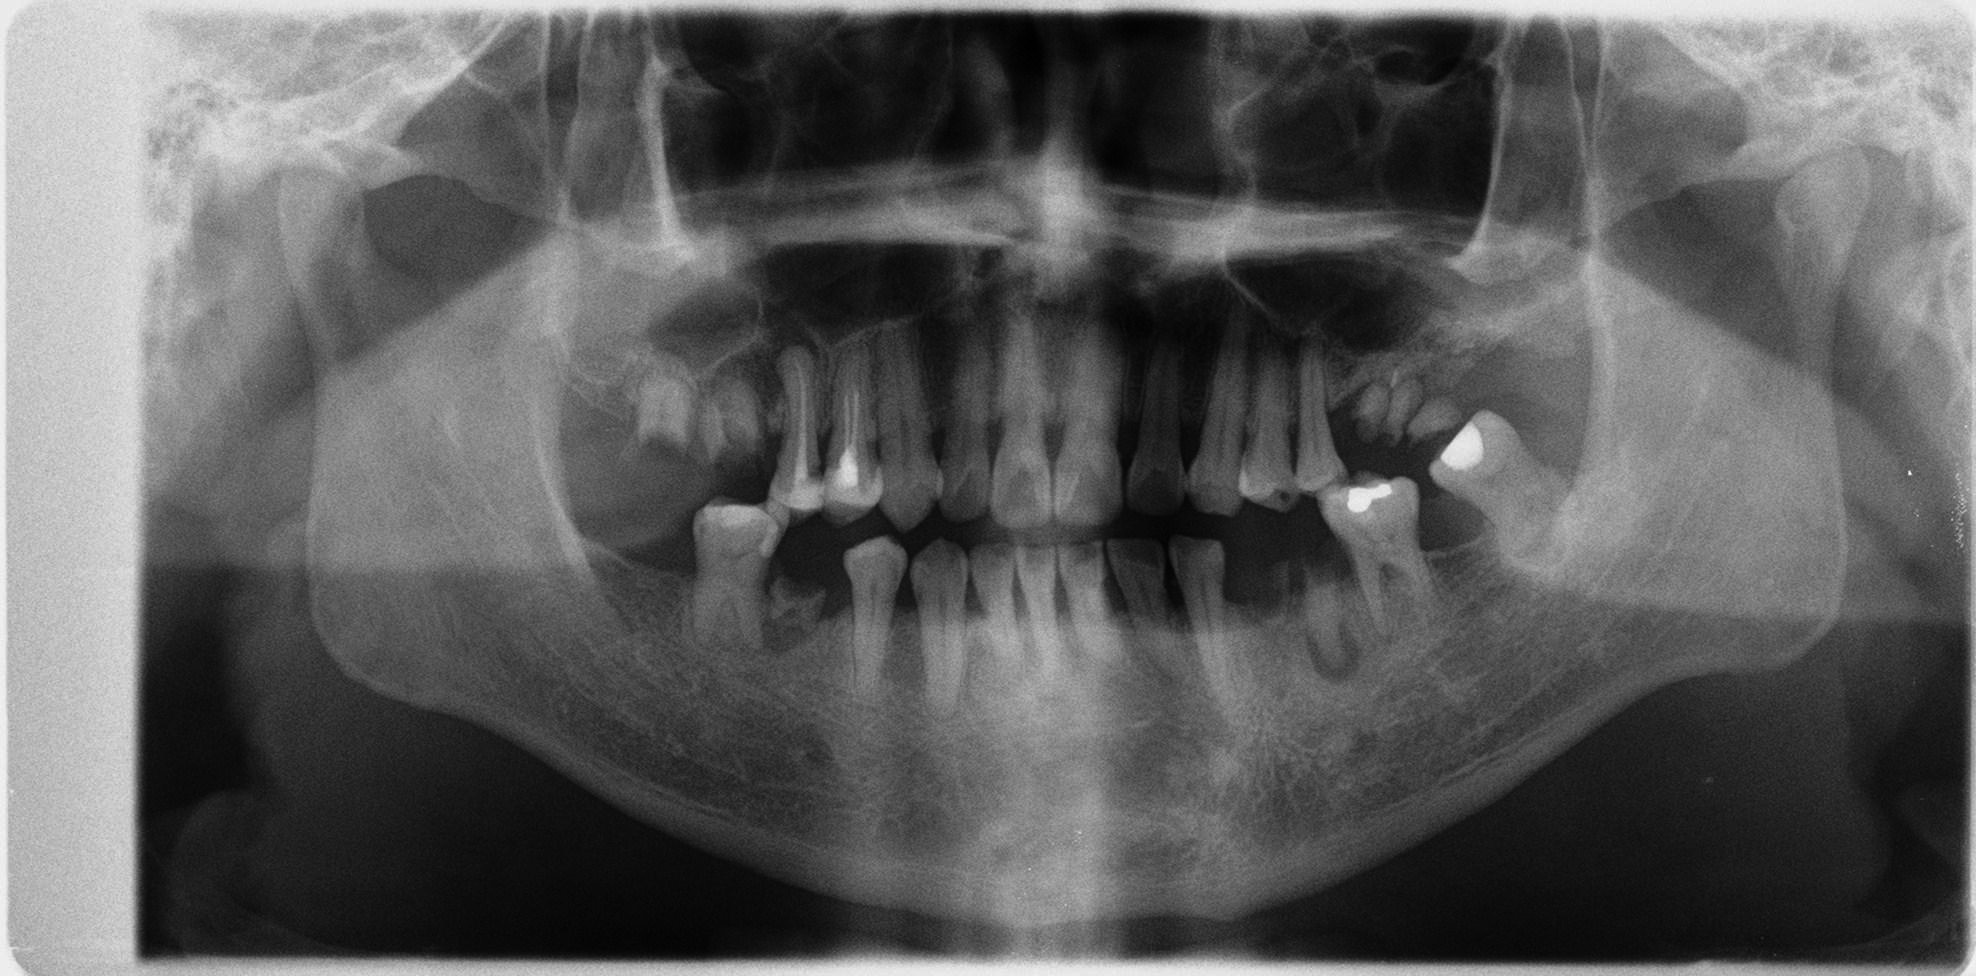Individual Tooth: (1432, 407, 1577, 557), (1319, 469, 1440, 637), (1053, 321, 1126, 526), (990, 304, 1054, 530), (695, 498, 782, 653), (1187, 306, 1250, 515), (1106, 540, 1192, 679), (772, 324, 832, 521), (880, 351, 942, 531), (823, 341, 883, 525), (1238, 335, 1300, 511), (911, 541, 971, 719), (1126, 337, 1185, 514), (769, 346, 824, 524), (1170, 535, 1230, 693), (1058, 541, 1128, 666), (846, 540, 904, 680), (967, 542, 1027, 677), (1293, 344, 1341, 494), (1015, 548, 1069, 677), (635, 350, 700, 450), (702, 378, 763, 469), (1307, 568, 1344, 672), (770, 578, 820, 629)
